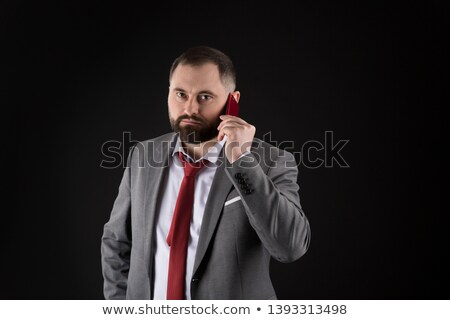phone: (224, 89, 248, 146)
talk: (165, 83, 262, 168)
